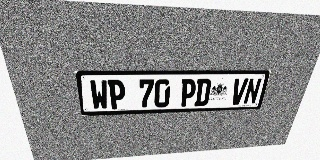0: (154, 79, 171, 108)
7: (138, 79, 154, 108)
D: (194, 79, 212, 106)
N: (243, 78, 262, 104)
P: (107, 80, 126, 109), (179, 79, 197, 107)
V: (229, 78, 249, 105)
W: (89, 80, 109, 110)
